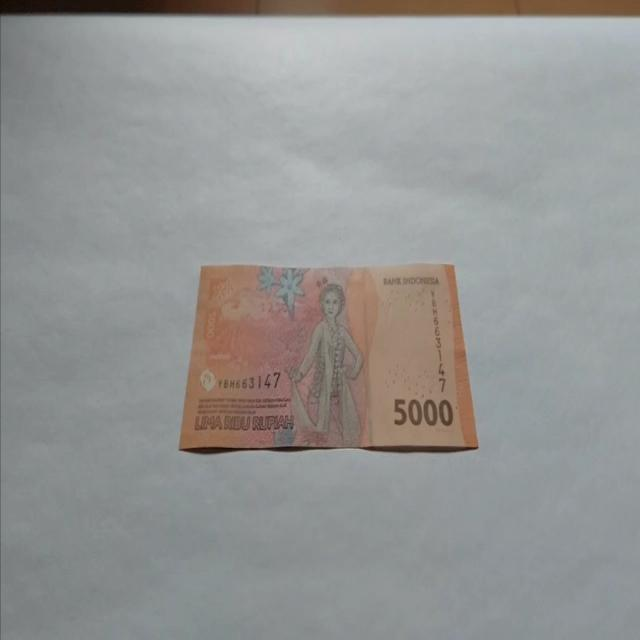lima ribu rupiah: (178, 262, 478, 454), (284, 280, 364, 446)
